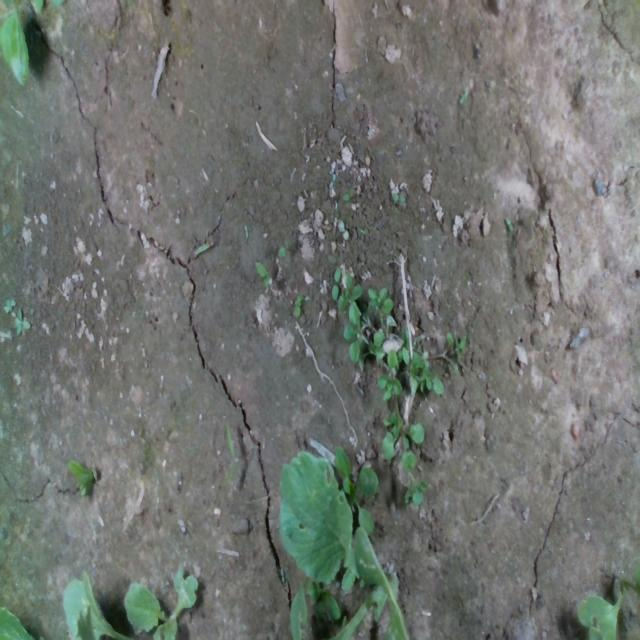weed: (292, 290, 302, 316), (341, 183, 355, 201), (391, 191, 405, 205), (504, 215, 513, 231)
